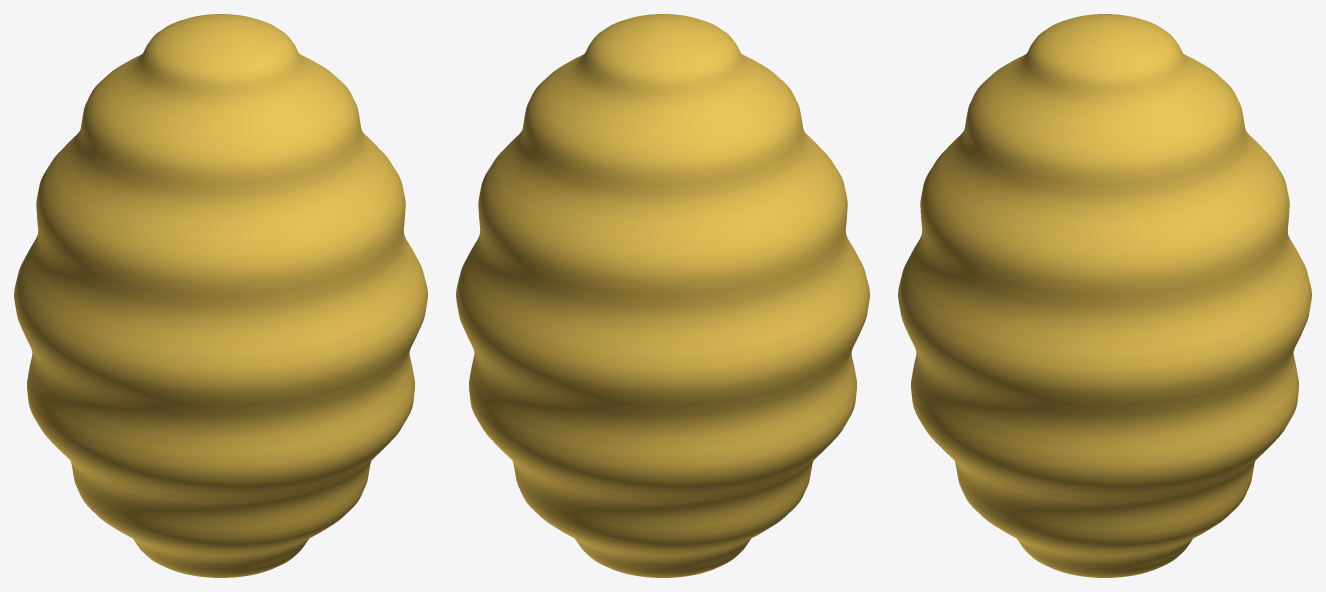
Rendered from hive.fbx.
The picture shows the model from 3 angles, left to right: view 1: azimuth 30°, elevation 25°; view 2: azimuth 150°, elevation 25°; view 3: azimuth 270°, elevation 25°; orthographic projection.
Parts seen in each view (by area): view 1: Hive; view 2: Hive; view 3: Hive.
Part boxes in pixels (left/top/right/bottom): Hive: left=14, top=14, right=427, bottom=577; Hive: left=456, top=14, right=869, bottom=577; Hive: left=898, top=14, right=1311, bottom=577.
Size of the model in its own units: 417 by 599 by 417.
